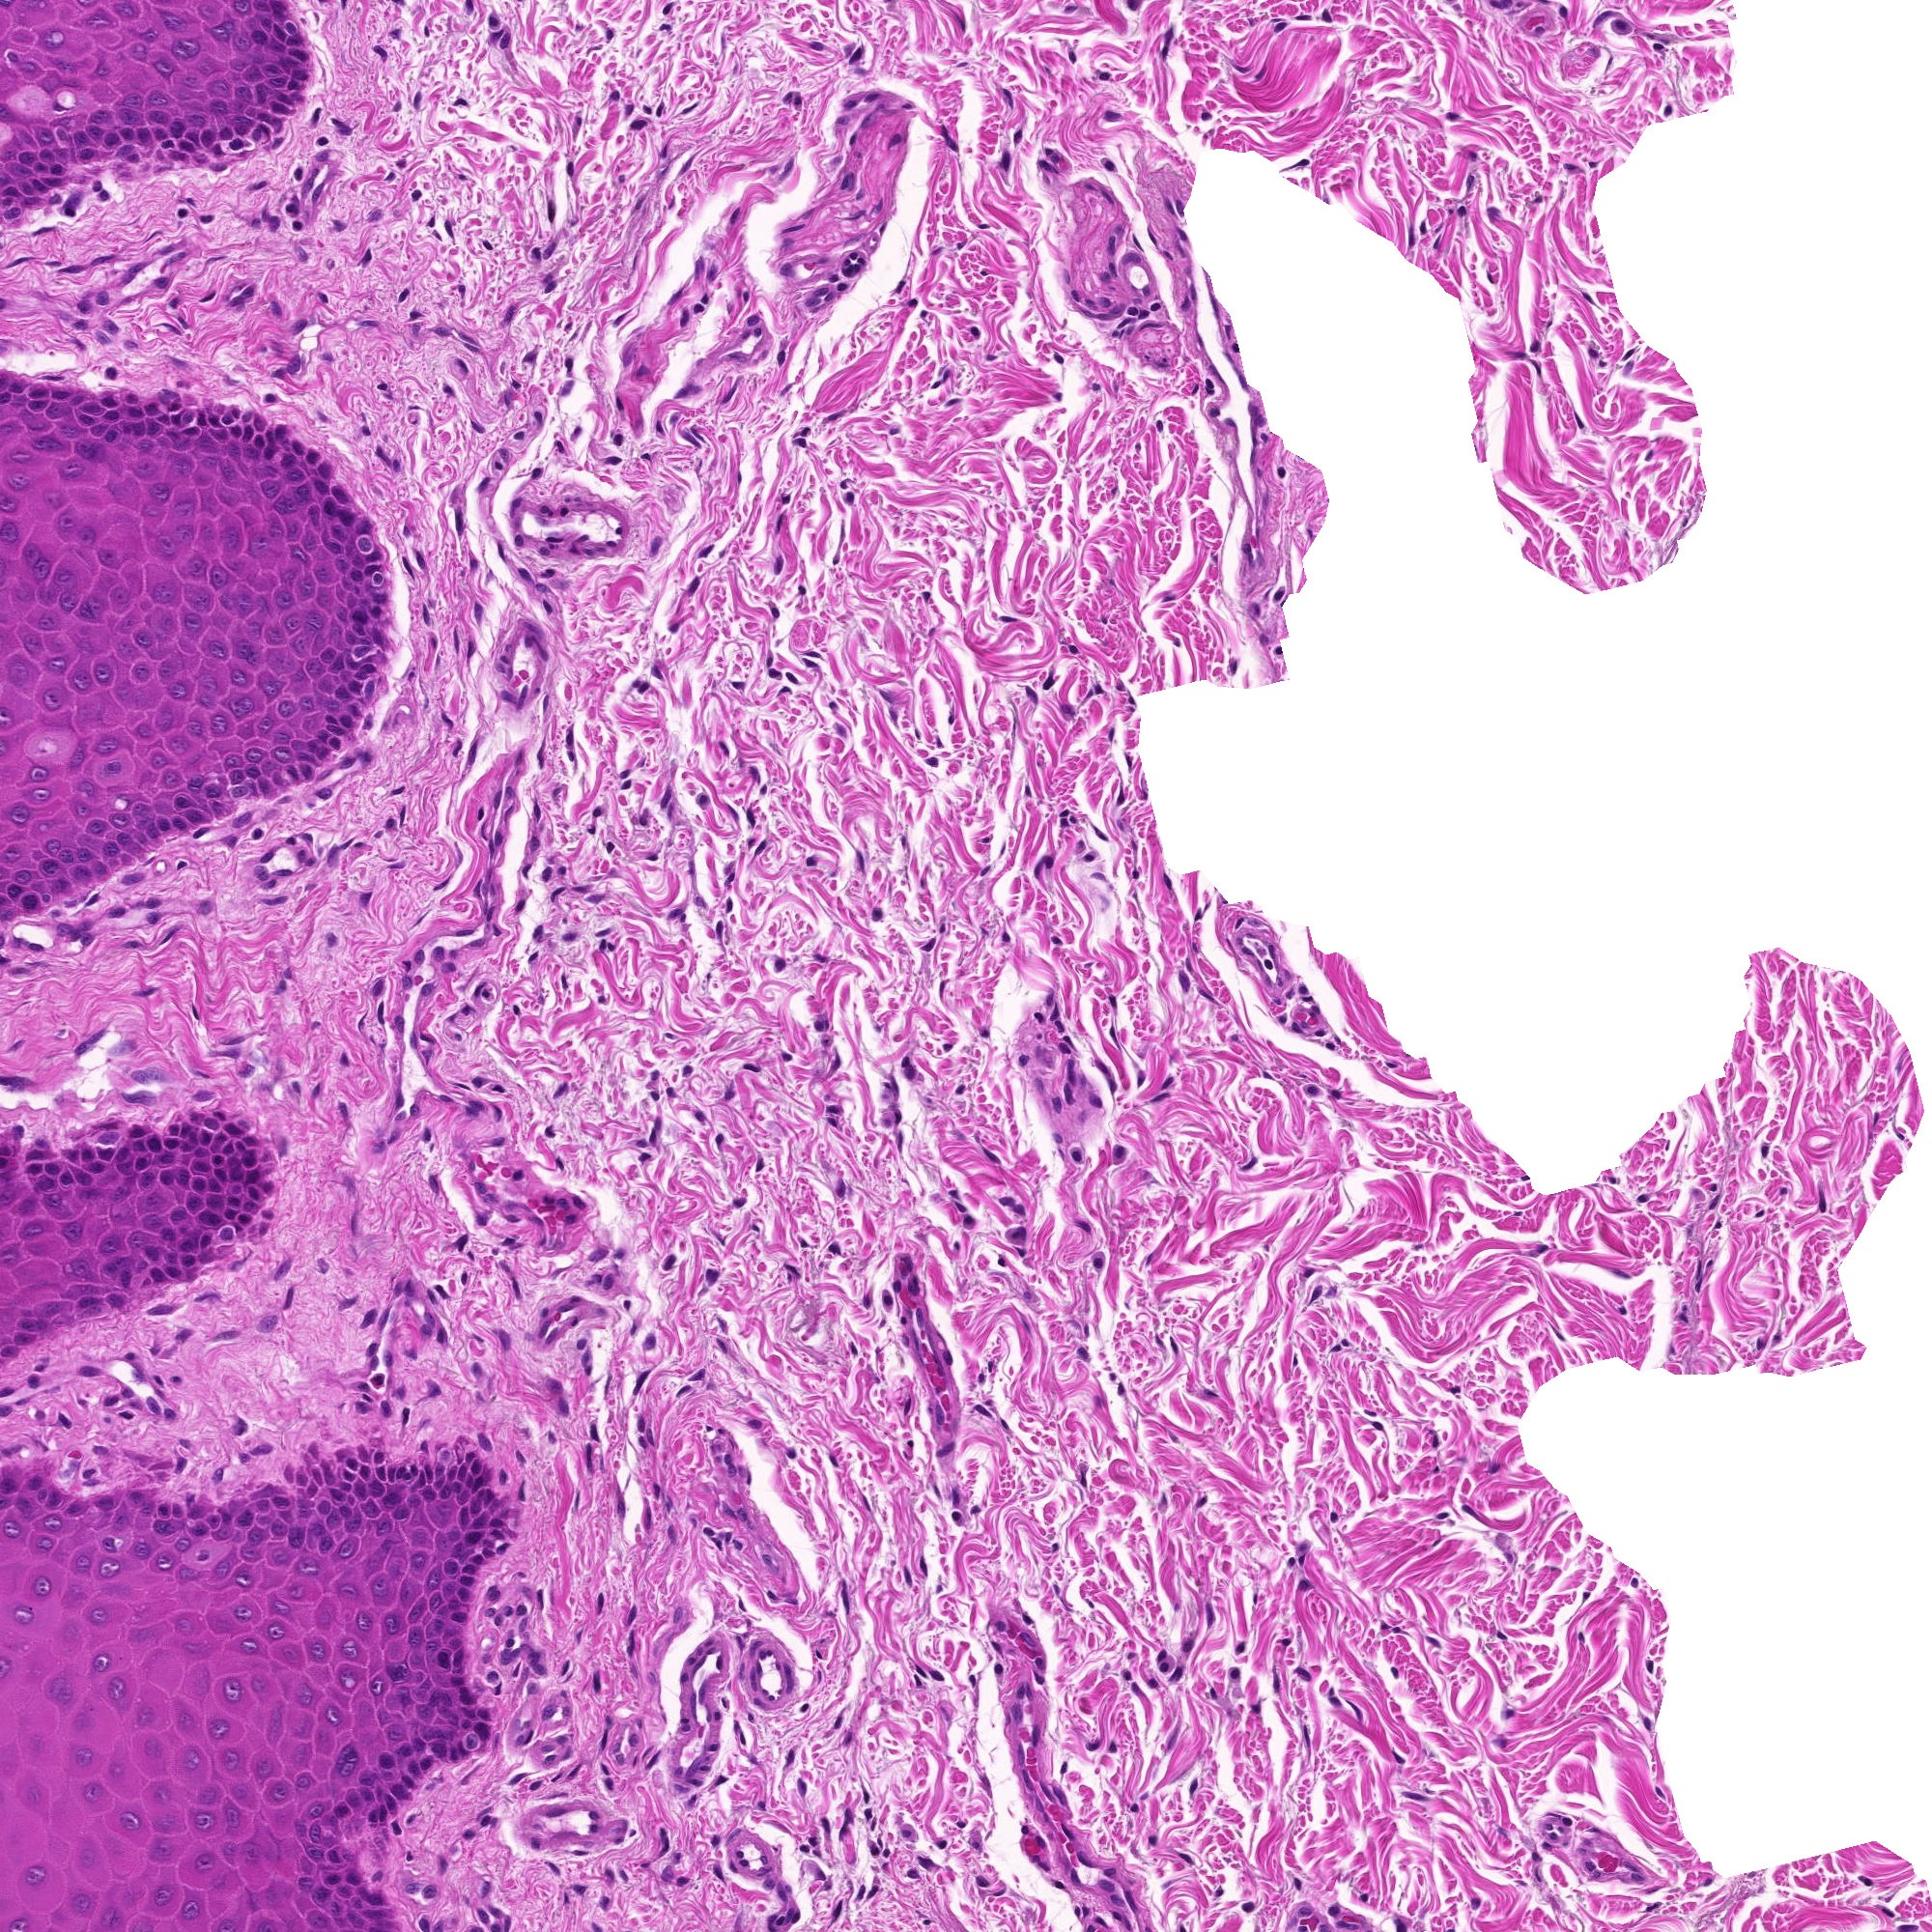epithelial: (274, 442, 306, 476), (150, 124, 182, 157), (101, 387, 133, 421), (350, 653, 384, 685), (120, 1118, 152, 1152), (228, 1178, 260, 1212), (159, 403, 191, 435), (251, 430, 283, 462), (34, 166, 65, 198), (11, 142, 42, 173), (278, 460, 310, 492), (119, 396, 150, 428), (25, 152, 57, 184), (44, 379, 76, 410), (96, 124, 127, 156), (65, 122, 97, 154), (285, 39, 317, 71), (175, 416, 207, 448), (142, 101, 173, 133), (12, 172, 44, 203), (203, 414, 235, 446), (196, 129, 228, 161), (143, 119, 175, 150), (149, 403, 180, 435), (111, 136, 143, 168), (281, 50, 313, 81), (257, 51, 288, 83), (249, 5, 281, 37), (152, 382, 184, 414), (285, 310, 317, 341), (133, 19, 165, 51), (34, 27, 65, 58), (219, 432, 251, 464), (113, 101, 145, 133), (205, 16, 237, 48), (299, 444, 331, 476), (111, 111, 143, 143), (228, 435, 260, 467), (265, 5, 297, 37), (41, 172, 73, 203), (46, 48, 78, 80), (269, 449, 301, 481), (165, 395, 196, 426), (212, 456, 244, 488), (48, 389, 80, 421), (67, 389, 99, 421), (18, 145, 50, 177), (12, 396, 44, 428), (9, 122, 41, 154), (55, 414, 87, 446), (343, 602, 375, 633), (313, 492, 345, 524), (320, 497, 352, 529), (340, 559, 372, 591), (318, 531, 350, 563), (334, 699, 366, 731), (248, 771, 280, 803), (318, 706, 350, 738), (287, 479, 318, 511), (318, 727, 350, 759), (303, 731, 334, 763), (324, 479, 356, 511), (269, 490, 301, 522), (343, 656, 375, 688), (345, 633, 377, 665), (269, 692, 301, 724), (182, 550, 214, 582), (354, 534, 386, 566), (101, 828, 133, 860), (50, 508, 81, 540), (326, 600, 357, 632), (359, 563, 391, 594), (150, 655, 182, 686), (267, 720, 299, 752), (317, 646, 349, 678), (5, 883, 37, 915), (58, 747, 90, 778), (290, 573, 322, 605), (48, 559, 80, 591), (343, 538, 375, 570), (170, 515, 202, 547), (258, 511, 290, 543), (51, 915, 83, 947), (180, 757, 212, 789), (334, 534, 366, 566), (90, 1138, 122, 1169), (177, 1187, 209, 1219), (172, 1230, 203, 1261), (19, 1139, 51, 1171), (131, 1162, 163, 1194), (142, 1260, 173, 1292), (198, 1185, 230, 1217), (219, 1159, 251, 1191), (150, 1143, 182, 1175), (57, 1139, 88, 1171), (159, 1115, 191, 1146), (30, 1168, 62, 1200), (67, 1162, 99, 1194), (57, 1215, 88, 1247), (90, 1115, 122, 1146), (253, 1171, 285, 1203), (65, 1143, 97, 1175), (41, 1159, 73, 1191), (225, 1412, 257, 1444), (25, 1146, 57, 1178), (111, 1127, 143, 1159), (173, 1254, 205, 1286), (241, 1150, 272, 1182), (64, 1249, 96, 1281), (209, 1185, 241, 1217), (140, 1247, 172, 1279), (41, 1169, 73, 1201), (458, 1447, 490, 1479), (324, 1794, 356, 1826), (317, 1863, 349, 1895), (149, 1502, 180, 1534), (361, 1799, 393, 1831), (58, 1493, 90, 1525), (435, 1552, 467, 1583), (37, 1483, 69, 1514), (458, 1545, 490, 1576), (393, 1766, 425, 1798), (460, 1504, 492, 1536), (455, 1697, 487, 1729), (372, 1792, 403, 1824), (179, 1497, 211, 1529), (453, 1729, 485, 1760), (418, 1683, 449, 1714), (156, 1495, 188, 1527), (442, 1474, 474, 1506), (7, 1488, 39, 1520), (379, 1605, 410, 1637), (380, 1474, 412, 1506), (444, 1640, 476, 1672), (402, 1594, 433, 1626), (398, 1621, 430, 1652), (426, 1456, 458, 1488), (352, 1780, 384, 1812), (387, 1683, 419, 1714), (299, 1836, 331, 1868), (396, 1743, 428, 1775), (327, 1748, 359, 1780), (338, 1783, 370, 1815), (451, 1507, 483, 1539), (317, 1502, 349, 1534), (366, 1509, 398, 1541), (188, 1844, 219, 1875), (65, 1884, 97, 1916), (421, 1635, 453, 1667), (444, 1589, 476, 1621), (111, 1805, 143, 1836), (320, 1893, 352, 1925), (458, 1723, 490, 1755), (260, 1511, 292, 1543), (398, 1486, 430, 1518), (186, 1502, 218, 1534), (257, 1615, 288, 1647), (216, 1799, 248, 1831), (295, 1474, 327, 1506), (205, 1516, 237, 1548), (428, 1737, 460, 1769), (403, 1522, 435, 1553), (416, 1718, 448, 1750), (172, 1559, 203, 1591), (364, 1778, 396, 1810), (214, 1677, 246, 1709), (306, 1520, 338, 1552), (311, 1870, 343, 1902), (124, 1619, 156, 1651), (27, 1477, 58, 1509), (175, 1741, 207, 1773), (458, 1675, 490, 1707), (442, 1720, 474, 1752), (373, 1451, 405, 1483), (306, 1723, 338, 1755), (428, 1523, 460, 1555), (446, 1698, 478, 1730), (623, 188, 655, 219), (533, 1185, 564, 1217), (824, 1173, 856, 1205), (897, 1325, 929, 1357), (720, 1497, 752, 1529), (607, 1813, 639, 1845), (740, 1629, 771, 1661), (1116, 242, 1148, 274), (1092, 258, 1123, 290), (1231, 534, 1263, 566), (1010, 1762, 1042, 1794), (1454, 165, 1486, 196), (1621, 1859, 1652, 1891), (1493, 1539, 1525, 1571), (14, 51, 44, 85), (230, 106, 264, 136), (80, 391, 113, 421), (34, 127, 64, 161), (354, 672, 384, 706), (25, 545, 55, 579), (451, 1463, 481, 1497), (237, 1836, 267, 1870), (96, 402, 127, 432), (225, 416, 255, 448), (262, 418, 292, 449), (172, 129, 202, 161), (21, 382, 51, 414), (127, 120, 159, 150), (161, 113, 193, 143), (71, 140, 103, 170), (119, 412, 149, 444), (244, 19, 274, 51), (92, 386, 124, 416), (193, 120, 223, 152), (209, 119, 241, 149), (73, 398, 103, 430), (104, 120, 136, 150), (292, 437, 322, 469), (138, 412, 170, 442), (269, 81, 299, 113), (281, 433, 311, 465), (219, 129, 251, 159), (280, 349, 310, 380), (76, 435, 106, 467), (249, 101, 280, 133), (96, 421, 127, 451), (28, 428, 60, 458), (129, 414, 161, 444), (260, 32, 292, 62), (246, 78, 276, 110), (239, 435, 269, 467), (182, 120, 212, 152), (237, 58, 269, 88), (85, 55, 117, 85), (202, 405, 234, 435), (237, 405, 267, 437), (34, 382, 65, 412), (172, 402, 202, 433), (28, 120, 60, 150), (39, 395, 69, 426), (81, 2, 111, 34), (258, 106, 288, 138), (228, 76, 258, 108), (19, 391, 50, 423), (157, 134, 189, 165), (73, 129, 103, 161), (88, 120, 120, 150), (5, 154, 35, 186), (216, 398, 248, 428), (111, 126, 142, 157), (188, 426, 219, 456), (48, 113, 78, 145), (182, 400, 212, 432), (180, 134, 211, 166), (19, 159, 50, 191), (156, 5, 186, 37), (255, 455, 285, 487), (278, 34, 308, 65), (108, 414, 140, 444), (267, 425, 297, 456), (163, 426, 195, 456), (225, 122, 257, 152), (78, 407, 108, 439), (359, 200, 391, 230), (55, 67, 85, 99), (264, 437, 295, 467), (140, 83, 172, 113), (37, 430, 69, 460), (166, 120, 196, 152), (90, 405, 120, 437), (225, 88, 257, 119), (280, 80, 310, 111), (265, 41, 297, 71), (264, 76, 294, 108), (25, 180, 57, 211), (58, 142, 90, 172), (249, 87, 281, 117), (241, 46, 271, 78), (212, 11, 244, 41), (35, 69, 65, 101), (14, 886, 46, 916), (331, 501, 361, 533), (166, 786, 196, 817), (34, 849, 64, 881), (149, 810, 180, 840), (179, 801, 211, 832), (165, 809, 195, 840), (349, 511, 380, 541), (237, 757, 269, 787), (327, 678, 357, 709), (306, 497, 338, 527), (81, 812, 113, 842), (357, 545, 389, 575), (340, 671, 370, 702), (364, 584, 396, 614), (5, 796, 35, 828), (363, 623, 395, 653), (283, 755, 313, 787), (221, 761, 253, 791), (329, 492, 359, 524), (313, 717, 345, 747), (90, 541, 122, 571), (329, 648, 359, 679), (308, 720, 338, 752), (67, 856, 97, 888), (46, 869, 78, 899), (69, 840, 101, 870), (225, 775, 255, 807), (189, 890, 219, 922), (232, 639, 264, 669), (62, 916, 92, 948), (297, 499, 327, 531), (25, 759, 57, 789), (202, 633, 234, 663), (311, 639, 343, 669), (18, 538, 48, 570), (108, 823, 138, 855), (462, 593, 492, 625), (288, 740, 320, 770), (65, 738, 96, 770), (341, 548, 373, 579), (127, 623, 157, 655), (117, 863, 149, 893), (349, 529, 380, 559), (257, 766, 288, 796), (343, 614, 373, 646), (173, 605, 205, 635), (37, 681, 67, 713), (156, 763, 186, 794), (223, 692, 255, 722), (23, 885, 55, 915), (308, 559, 338, 591), (315, 688, 345, 720), (209, 777, 241, 807), (87, 658, 119, 688), (218, 524, 248, 556), (336, 681, 366, 713), (67, 665, 97, 697), (315, 524, 347, 554), (202, 564, 234, 594), (30, 607, 62, 637), (90, 731, 122, 761), (223, 660, 255, 690), (338, 653, 370, 683), (11, 867, 41, 899), (299, 653, 331, 683), (235, 775, 267, 805), (205, 709, 237, 740), (150, 708, 182, 738), (352, 593, 382, 625), (251, 708, 283, 738), (301, 740, 331, 771), (189, 685, 219, 717), (51, 586, 81, 617), (150, 607, 180, 639), (172, 487, 202, 518), (336, 522, 366, 554), (39, 485, 69, 517), (191, 518, 223, 548), (244, 763, 274, 794), (18, 1154, 50, 1184), (237, 1161, 269, 1191), (138, 1129, 170, 1159), (35, 1154, 67, 1184), (191, 1122, 221, 1154), (126, 1148, 157, 1178), (173, 1116, 205, 1146), (156, 1129, 188, 1159), (196, 1203, 226, 1235), (234, 1145, 265, 1175), (202, 1145, 234, 1175), (71, 1139, 103, 1169), (50, 1164, 81, 1194), (186, 1150, 216, 1182), (150, 1162, 182, 1192), (214, 1200, 246, 1230), (205, 1159, 235, 1191), (163, 1200, 195, 1230), (168, 1161, 198, 1192), (232, 1127, 264, 1157), (152, 1219, 184, 1249), (7, 1322, 37, 1353), (157, 1256, 188, 1288), (138, 1237, 168, 1269), (195, 1108, 226, 1138), (237, 1178, 269, 1208), (25, 1132, 57, 1162), (218, 1150, 249, 1180), (198, 1171, 230, 1201), (234, 1189, 265, 1219), (203, 1123, 235, 1154), (110, 1150, 140, 1182), (242, 1171, 274, 1201), (149, 1132, 179, 1164), (76, 1146, 108, 1177), (460, 1090, 490, 1122), (253, 1307, 285, 1338), (182, 1242, 214, 1272), (223, 1122, 253, 1154), (212, 1210, 242, 1242), (133, 1141, 165, 1171), (37, 1185, 67, 1217), (393, 1272, 423, 1304), (106, 1246, 136, 1277), (104, 1256, 134, 1288), (333, 1168, 364, 1198), (90, 1125, 120, 1157), (2, 1067, 34, 1097), (219, 1169, 249, 1201), (18, 1214, 50, 1244), (198, 1129, 228, 1161), (165, 1125, 196, 1155), (338, 1207, 368, 1238), (113, 1159, 145, 1189), (134, 1120, 166, 1150), (182, 1196, 214, 1226), (30, 1139, 62, 1169), (239, 1131, 269, 1162), (230, 1054, 260, 1086), (267, 1253, 297, 1284), (97, 1240, 127, 1272), (51, 1146, 81, 1178), (152, 1120, 182, 1152), (223, 1212, 255, 1242), (119, 1152, 150, 1182), (25, 1161, 55, 1192), (196, 1154, 226, 1185), (163, 1251, 195, 1281), (195, 1217, 225, 1249), (226, 1194, 258, 1224), (117, 1256, 149, 1286), (27, 1311, 58, 1341), (460, 1467, 490, 1499), (370, 1746, 402, 1776), (384, 1458, 416, 1488), (451, 1681, 481, 1713), (444, 1736, 474, 1767), (410, 1748, 442, 1778), (306, 1879, 338, 1909), (361, 1884, 393, 1914), (380, 1656, 412, 1686), (184, 1514, 214, 1546), (375, 1484, 407, 1514), (19, 1467, 50, 1499), (414, 1477, 444, 1509), (349, 1456, 380, 1486), (366, 1456, 396, 1488), (412, 1458, 444, 1488), (359, 1898, 389, 1930), (448, 1500, 479, 1530), (147, 1511, 177, 1543), (207, 1504, 239, 1534), (403, 1730, 433, 1762), (281, 1522, 311, 1553), (451, 1566, 481, 1598), (433, 1474, 464, 1506), (400, 1752, 432, 1782), (334, 1454, 364, 1486), (92, 1529, 124, 1559), (430, 1683, 460, 1714), (120, 1481, 152, 1511), (329, 1495, 359, 1527), (375, 1782, 407, 1812), (356, 1493, 386, 1525), (311, 1456, 341, 1488), (405, 1465, 437, 1495), (444, 1536, 474, 1568), (444, 1672, 476, 1702), (327, 1865, 359, 1895), (228, 1559, 258, 1591), (310, 1529, 341, 1559), (449, 1709, 481, 1739), (426, 1720, 458, 1750), (308, 1493, 340, 1523), (364, 1447, 396, 1477), (241, 1520, 271, 1552), (338, 1507, 370, 1537), (129, 1534, 159, 1566), (203, 1709, 234, 1741), (299, 1635, 331, 1665), (455, 1440, 485, 1472), (333, 1445, 364, 1476), (403, 1545, 433, 1576), (460, 1479, 492, 1509), (366, 1477, 398, 1507), (331, 1463, 363, 1493), (143, 1835, 175, 1865), (19, 1861, 50, 1893), (196, 1506, 228, 1536), (460, 1704, 490, 1736), (301, 1458, 331, 1490), (303, 1513, 333, 1545), (350, 1881, 382, 1911), (421, 1583, 451, 1615), (288, 1867, 318, 1898), (343, 1890, 373, 1921), (356, 1440, 386, 1472), (246, 1488, 278, 1518), (248, 1752, 278, 1783), (177, 1488, 209, 1518), (375, 1461, 405, 1493), (67, 1741, 97, 1773), (437, 1702, 467, 1734), (9, 1596, 41, 1626), (170, 1704, 200, 1736), (218, 1668, 248, 1700), (333, 1658, 363, 1690), (235, 1633, 267, 1663), (380, 1718, 410, 1750), (129, 1700, 161, 1730), (193, 1780, 225, 1810), (441, 1629, 472, 1660), (145, 1493, 177, 1523), (186, 1805, 218, 1835), (218, 1497, 249, 1527), (318, 1463, 349, 1495), (292, 1681, 322, 1713), (310, 1601, 340, 1633), (27, 1530, 58, 1560), (437, 1727, 469, 1757), (334, 1479, 366, 1509), (299, 1817, 331, 1847), (244, 1668, 274, 1700), (73, 1460, 104, 1490), (382, 1490, 414, 1520), (67, 1548, 99, 1578), (341, 1898, 372, 1930), (149, 1545, 180, 1575), (18, 1780, 50, 1810), (426, 1499, 456, 1530), (225, 1778, 257, 1808), (366, 1578, 396, 1610), (237, 1886, 267, 1918), (58, 1580, 90, 1610), (195, 1518, 226, 1548), (73, 1842, 103, 1874), (271, 1499, 301, 1530), (333, 1575, 364, 1605), (448, 1453, 479, 1483), (345, 1495, 377, 1525), (407, 1674, 439, 1704), (205, 1610, 237, 1640), (285, 1812, 315, 1844), (320, 1702, 350, 1734), (257, 1879, 288, 1909), (331, 1842, 361, 1874), (333, 1637, 364, 1667), (356, 1463, 387, 1493), (405, 1721, 437, 1752), (214, 1836, 246, 1867), (398, 1470, 428, 1502), (437, 1713, 469, 1743), (359, 1789, 389, 1821), (165, 1502, 196, 1532), (168, 1529, 198, 1560), (334, 1852, 366, 1882), (276, 1458, 306, 1490), (626, 356, 656, 387), (534, 267, 564, 299), (612, 340, 642, 372), (798, 285, 828, 317), (943, 5, 973, 37), (488, 646, 520, 676), (518, 826, 550, 856), (676, 853, 706, 885), (925, 1346, 955, 1378), (932, 1341, 962, 1373), (488, 1322, 518, 1353), (906, 1300, 936, 1332), (904, 1332, 934, 1364), (527, 1313, 559, 1343), (481, 1511, 511, 1543), (669, 1707, 701, 1737), (494, 1638, 524, 1670), (510, 1723, 541, 1753), (759, 1900, 791, 1930), (651, 1859, 681, 1891), (533, 1697, 563, 1729), (676, 1757, 708, 1787), (1092, 288, 1122, 320), (1246, 58, 1276, 90), (1092, 272, 1122, 304), (1047, 801, 1079, 832), (1012, 1279, 1044, 1309), (1021, 1720, 1053, 1750), (1001, 1697, 1031, 1729), (1023, 1826, 1054, 1856), (984, 1610, 1016, 1640), (1053, 1817, 1085, 1847), (1288, 1897, 1320, 1927), (1477, 196, 1507, 228), (1522, 12, 1553, 42), (1578, 35, 1608, 67), (1670, 506, 1700, 538), (1667, 1300, 1698, 1330), (262, 92, 292, 122), (189, 405, 219, 435), (21, 172, 51, 202), (244, 426, 274, 456), (136, 393, 166, 423), (41, 154, 71, 184), (246, 115, 276, 145), (234, 419, 264, 449), (264, 18, 294, 48), (226, 111, 257, 142), (278, 69, 308, 99), (280, 21, 310, 51), (219, 407, 249, 437), (85, 101, 115, 131), (2, 372, 32, 402), (264, 67, 294, 97), (32, 140, 62, 170), (310, 458, 340, 488), (80, 117, 110, 147), (271, 48, 301, 78), (285, 60, 315, 90), (165, 140, 195, 170), (244, 412, 274, 442), (168, 34, 198, 64), (12, 184, 42, 214), (166, 414, 196, 444), (216, 418, 246, 448), (115, 386, 145, 416), (11, 375, 41, 405), (41, 142, 71, 172), (149, 50, 179, 80), (253, 441, 283, 471), (276, 14, 306, 44), (62, 384, 92, 414), (253, 28, 283, 58), (203, 92, 234, 122), (198, 423, 228, 453), (182, 104, 212, 134), (131, 432, 161, 462), (255, 414, 285, 444), (4, 382, 34, 412), (55, 458, 85, 488), (57, 122, 87, 152), (85, 414, 115, 444), (251, 73, 281, 103), (103, 407, 133, 437), (0, 44, 30, 74), (131, 456, 161, 487), (97, 752, 127, 782), (198, 777, 228, 807), (0, 876, 30, 906), (179, 770, 209, 800), (356, 554, 386, 584), (361, 596, 391, 626), (322, 517, 352, 547), (331, 706, 361, 736), (126, 656, 156, 686), (96, 835, 126, 865), (73, 596, 103, 626), (202, 793, 232, 823), (138, 816, 168, 846), (73, 518, 103, 548), (127, 717, 157, 747), (85, 855, 115, 885), (340, 513, 370, 543), (336, 623, 366, 653), (327, 550, 357, 580), (106, 803, 136, 833), (7, 860, 37, 890), (143, 747, 173, 777), (67, 793, 97, 823), (182, 713, 212, 743), (73, 773, 103, 803), (172, 805, 202, 835), (269, 584, 299, 614), (299, 605, 329, 635), (51, 842, 81, 872), (163, 676, 193, 706), (186, 586, 216, 616), (278, 515, 308, 545), (16, 628, 46, 658), (232, 717, 262, 747), (260, 619, 290, 649), (239, 741, 269, 771), (218, 748, 248, 778), (165, 727, 195, 757), (285, 660, 315, 690), (42, 649, 73, 679), (126, 796, 156, 826), (294, 527, 324, 557), (150, 534, 180, 564), (310, 671, 340, 701), (173, 794, 203, 824), (292, 688, 322, 718), (37, 832, 67, 862), (462, 874, 492, 904), (311, 736, 341, 766), (184, 1169, 214, 1200), (218, 1191, 248, 1221), (81, 1154, 111, 1184), (173, 1246, 203, 1276), (228, 1205, 258, 1235), (73, 1288, 103, 1318), (108, 1139, 138, 1169), (214, 1134, 244, 1164), (101, 1284, 131, 1315), (97, 1253, 127, 1283), (124, 1131, 154, 1161), (175, 1127, 205, 1157), (110, 1263, 140, 1293), (18, 1309, 48, 1339), (11, 1191, 41, 1221), (156, 1244, 186, 1274), (74, 1178, 104, 1208), (203, 1100, 234, 1131), (37, 1293, 67, 1323), (73, 1155, 103, 1185), (184, 1138, 214, 1168), (87, 1146, 117, 1177), (138, 1207, 168, 1237), (203, 1192, 234, 1223), (223, 1132, 253, 1162), (267, 1131, 297, 1161), (211, 1118, 241, 1148), (122, 1141, 152, 1171), (230, 1168, 260, 1198), (179, 1224, 209, 1254), (218, 1031, 248, 1062), (138, 1185, 168, 1215), (308, 1251, 338, 1281), (126, 1251, 156, 1281), (458, 1522, 488, 1552), (423, 1734, 453, 1764), (428, 1644, 458, 1674), (230, 1504, 260, 1534), (384, 1775, 414, 1805), (389, 1736, 419, 1766), (90, 1488, 120, 1518), (361, 1474, 391, 1504), (444, 1661, 474, 1691), (334, 1739, 364, 1769), (322, 1479, 352, 1509), (345, 1476, 375, 1506), (444, 1601, 474, 1631), (444, 1458, 474, 1488), (396, 1456, 426, 1486), (338, 1863, 368, 1893), (386, 1499, 416, 1529), (318, 1842, 349, 1872), (352, 1764, 382, 1794), (265, 1486, 295, 1516), (462, 1714, 492, 1744), (449, 1578, 479, 1608), (451, 1541, 481, 1571), (456, 1555, 487, 1585), (345, 1465, 375, 1495), (423, 1463, 453, 1493), (83, 1649, 113, 1679), (423, 1610, 453, 1640), (264, 1775, 294, 1805), (329, 1875, 359, 1905), (412, 1729, 442, 1759), (446, 1527, 476, 1557), (251, 1477, 281, 1507), (106, 1504, 136, 1534), (288, 1493, 318, 1523), (343, 1451, 373, 1481), (226, 1598, 257, 1628), (419, 1741, 449, 1771), (430, 1695, 460, 1725), (285, 1463, 315, 1493), (449, 1479, 479, 1509), (147, 1881, 177, 1911), (25, 1573, 55, 1603), (145, 1778, 175, 1808), (350, 1606, 380, 1637), (81, 1601, 111, 1631), (288, 1767, 318, 1798), (437, 1520, 467, 1550), (318, 1803, 349, 1833), (138, 1734, 168, 1764), (46, 1679, 76, 1709), (361, 1672, 391, 1702), (101, 1672, 131, 1702), (437, 1465, 467, 1495), (433, 1573, 464, 1603), (391, 1580, 421, 1610), (329, 1474, 359, 1504), (260, 1709, 290, 1739), (345, 1874, 375, 1904), (207, 1553, 237, 1583), (265, 1543, 295, 1573), (67, 1706, 97, 1736), (131, 1491, 161, 1522), (166, 1608, 196, 1638), (280, 1576, 310, 1606), (175, 1895, 205, 1925), (260, 1591, 290, 1621), (287, 1739, 317, 1769), (329, 1536, 359, 1566), (331, 1789, 361, 1819), (372, 1530, 402, 1560), (428, 1580, 458, 1610), (41, 1511, 71, 1541), (326, 1440, 356, 1470), (426, 1601, 456, 1631), (331, 1900, 361, 1930), (678, 423, 708, 453), (832, 166, 862, 196), (881, 124, 911, 154), (851, 106, 881, 136), (720, 341, 750, 372), (587, 1265, 617, 1295), (924, 1401, 954, 1431), (777, 1256, 807, 1286), (540, 1371, 570, 1401), (479, 1578, 510, 1608), (487, 1502, 517, 1532), (681, 1647, 711, 1677), (688, 1675, 718, 1706), (479, 1488, 510, 1518), (679, 1704, 709, 1734), (1122, 297, 1152, 327), (1109, 297, 1139, 327), (1099, 294, 1129, 324), (1109, 308, 1139, 338), (1154, 191, 1184, 221), (1053, 695, 1083, 725), (1231, 936, 1261, 966), (1005, 1739, 1035, 1769), (1010, 1622, 1040, 1652), (1575, 1852, 1605, 1882), (159, 391, 188, 423), (290, 453, 322, 481), (257, 674, 288, 702), (276, 485, 308, 513), (285, 540, 313, 571), (226, 632, 258, 660), (218, 1115, 249, 1143), (191, 1224, 219, 1256), (9, 1315, 41, 1343), (458, 1493, 490, 1522), (423, 1474, 451, 1506), (301, 1798, 333, 1826), (439, 1649, 471, 1677), (274, 1640, 306, 1668), (1157, 1725, 1185, 1757), (159, 419, 188, 449), (0, 177, 28, 207), (326, 713, 356, 741), (180, 1106, 209, 1136), (191, 1235, 219, 1265), (96, 1230, 124, 1260), (182, 1178, 212, 1207), (170, 1215, 198, 1246), (23, 1233, 51, 1263), (78, 1776, 108, 1805), (410, 1697, 439, 1727), (421, 1562, 449, 1592), (218, 1744, 248, 1773), (464, 1456, 492, 1486), (327, 1488, 356, 1518), (101, 1755, 131, 1783), (517, 623, 545, 653), (485, 1522, 513, 1552), (663, 1601, 692, 1631), (1251, 485, 1279, 515), (1085, 1387, 1115, 1415), (106, 1178, 134, 1207)
fibroblast and endothelial: (432, 702, 464, 736), (405, 1028, 437, 1062), (713, 377, 745, 410), (692, 536, 725, 568), (692, 1647, 725, 1679), (1316, 1895, 1350, 1927), (299, 99, 331, 131), (364, 35, 396, 67), (96, 356, 127, 387), (265, 356, 297, 387), (37, 361, 69, 393), (221, 287, 253, 318), (260, 292, 292, 324), (322, 209, 354, 241), (172, 188, 203, 219), (306, 134, 338, 166), (303, 166, 334, 198), (311, 341, 343, 373), (209, 133, 241, 165), (456, 736, 488, 768), (258, 885, 290, 916), (241, 817, 272, 849), (414, 938, 446, 970), (278, 823, 310, 855), (402, 939, 433, 971), (426, 936, 458, 968), (165, 849, 196, 881), (352, 706, 384, 738), (442, 626, 474, 658), (460, 927, 492, 959), (69, 922, 101, 954), (435, 938, 467, 970), (389, 1398, 421, 1430), (372, 1392, 403, 1424), (425, 1276, 456, 1307), (48, 1405, 80, 1437), (301, 1074, 333, 1106), (154, 1398, 186, 1430), (349, 1389, 380, 1421), (448, 1261, 479, 1293), (166, 1320, 198, 1352), (382, 1005, 414, 1037), (370, 1345, 402, 1376), (142, 1364, 173, 1396), (361, 971, 393, 1003), (412, 1302, 444, 1334), (384, 1376, 416, 1408), (366, 1304, 398, 1336), (460, 1353, 492, 1385), (464, 1203, 495, 1235), (444, 998, 476, 1030), (435, 1001, 467, 1033), (34, 1401, 65, 1433), (421, 1311, 453, 1343), (140, 1334, 172, 1366), (380, 1812, 412, 1844), (414, 1875, 446, 1907), (165, 1447, 196, 1479), (393, 1840, 425, 1872), (426, 1849, 458, 1881), (387, 1808, 419, 1840), (230, 1440, 262, 1472), (534, 195, 566, 226), (623, 108, 655, 140), (839, 242, 870, 274), (639, 92, 671, 124), (596, 444, 628, 476), (554, 152, 586, 184), (927, 363, 959, 395), (764, 340, 796, 372), (543, 432, 575, 464), (603, 387, 635, 419), (520, 456, 552, 488), (695, 257, 727, 288), (771, 152, 803, 184), (683, 253, 715, 285), (729, 278, 761, 310), (826, 253, 858, 285), (653, 405, 685, 437), (626, 671, 658, 702), (589, 927, 621, 959), (775, 662, 807, 694), (722, 669, 754, 701), (833, 481, 865, 513), (916, 745, 948, 777), (702, 913, 734, 945), (678, 570, 709, 602), (485, 534, 517, 566), (686, 784, 718, 816), (520, 929, 552, 961), (559, 531, 591, 563), (545, 855, 577, 886), (913, 929, 945, 961), (510, 853, 541, 885), (568, 536, 600, 568), (626, 803, 658, 835), (794, 644, 826, 676), (713, 858, 745, 890), (529, 541, 561, 573), (708, 731, 740, 763), (639, 531, 671, 563), (517, 941, 548, 973), (580, 534, 612, 566), (876, 694, 908, 725), (531, 531, 563, 563), (564, 872, 596, 904), (748, 773, 780, 805), (529, 564, 561, 596), (870, 679, 902, 711), (936, 701, 968, 732), (824, 715, 856, 747), (524, 571, 556, 603), (706, 904, 738, 936), (563, 1185, 594, 1217), (736, 1051, 768, 1083), (628, 1141, 660, 1173), (872, 1284, 904, 1316), (817, 1099, 849, 1131), (552, 1187, 584, 1219), (646, 1077, 678, 1109), (481, 1086, 513, 1118), (495, 1226, 527, 1258), (559, 1293, 591, 1325), (554, 1201, 586, 1233), (548, 964, 580, 996), (837, 1332, 869, 1364), (635, 1325, 667, 1357), (617, 1313, 649, 1345), (614, 1300, 646, 1332), (918, 1658, 950, 1690), (580, 1667, 612, 1698), (810, 1808, 842, 1840), (821, 1895, 853, 1927), (908, 1849, 939, 1881), (669, 1661, 701, 1693), (849, 1780, 881, 1812), (501, 1762, 533, 1794), (524, 1580, 556, 1612), (817, 1444, 849, 1476), (890, 1560, 922, 1592), (925, 1828, 957, 1859), (697, 1730, 729, 1762), (759, 1580, 791, 1612), (518, 1769, 550, 1801), (660, 1840, 692, 1872), (594, 1859, 626, 1891), (715, 1523, 747, 1555), (632, 1502, 663, 1534), (692, 1631, 724, 1663), (846, 1877, 878, 1909), (573, 1440, 605, 1472), (722, 1527, 754, 1559), (607, 1859, 639, 1891), (540, 1651, 571, 1683), (890, 1815, 922, 1847), (550, 1882, 582, 1914), (729, 1458, 761, 1490), (812, 1868, 844, 1900), (706, 1518, 738, 1550), (653, 1502, 685, 1534), (1189, 372, 1221, 403), (1286, 2, 1318, 34), (989, 145, 1021, 177), (1093, 149, 1125, 180), (1263, 9, 1295, 41), (1001, 119, 1033, 150), (1095, 99, 1127, 131), (1306, 2, 1338, 34), (1399, 218, 1431, 249), (1240, 410, 1272, 442), (1189, 99, 1221, 131), (1162, 191, 1194, 223), (1214, 407, 1246, 439), (1120, 226, 1152, 258), (1242, 423, 1274, 455), (1215, 322, 1247, 354), (1095, 228, 1127, 260), (1042, 380, 1074, 412), (1162, 202, 1194, 234), (1072, 295, 1104, 327), (1108, 226, 1139, 258), (1079, 372, 1111, 403), (1154, 237, 1185, 269), (1189, 288, 1221, 320), (1031, 846, 1063, 878), (1023, 853, 1054, 885), (1182, 899, 1214, 931), (1254, 936, 1286, 968), (1247, 623, 1279, 655), (1288, 975, 1320, 1007), (1104, 1136, 1136, 1168), (1097, 984, 1129, 1016), (1083, 1246, 1115, 1277), (1299, 996, 1330, 1028), (1295, 1074, 1327, 1106), (1300, 1007, 1332, 1039), (1191, 978, 1223, 1010), (1067, 1338, 1099, 1369), (1293, 982, 1325, 1014), (1007, 1044, 1039, 1076), (1069, 1327, 1100, 1359), (1417, 1421, 1449, 1453), (1042, 1122, 1074, 1154), (1146, 1645, 1178, 1677), (982, 1652, 1014, 1684), (1097, 1730, 1129, 1762), (1288, 1658, 1320, 1690), (1026, 1849, 1058, 1881), (961, 1828, 993, 1859), (1284, 1539, 1316, 1571), (1198, 1677, 1230, 1709), (1090, 1870, 1122, 1902), (1046, 1762, 1077, 1794), (1019, 1842, 1051, 1874), (1633, 439, 1665, 471), (1525, 1233, 1557, 1265), (1626, 1182, 1658, 1214), (1702, 1210, 1734, 1242), (1683, 1263, 1714, 1295), (1744, 1198, 1776, 1230), (1631, 1707, 1663, 1739), (1541, 1812, 1573, 1844), (1619, 1566, 1651, 1598), (1644, 1776, 1675, 1808), (1530, 1829, 1562, 1861), (387, 88, 421, 119), (350, 881, 380, 915), (336, 830, 370, 860), (73, 1357, 106, 1387), (18, 1364, 48, 1398), (352, 1311, 382, 1345), (379, 1341, 412, 1371), (357, 1318, 387, 1352), (860, 1286, 893, 1316), (702, 1123, 736, 1154), (702, 1766, 736, 1796), (637, 1744, 667, 1778), (692, 1516, 725, 1546), (540, 1743, 573, 1773), (504, 1635, 538, 1665), (732, 1844, 766, 1874), (1573, 150, 1606, 180), (1698, 1185, 1729, 1219), (57, 253, 87, 285), (387, 280, 419, 310), (53, 195, 85, 225), (87, 179, 119, 209), (327, 111, 357, 143), (28, 214, 58, 246), (446, 85, 476, 117), (398, 299, 430, 329), (276, 193, 306, 225), (145, 267, 177, 297), (433, 373, 464, 405), (352, 241, 382, 272), (67, 292, 99, 322), (446, 350, 478, 380), (366, 439, 396, 471), (163, 310, 195, 340), (87, 281, 119, 311), (255, 382, 287, 412), (159, 287, 189, 318), (416, 205, 446, 237), (290, 165, 320, 196), (58, 186, 90, 216), (244, 170, 274, 202), (65, 308, 96, 340), (379, 448, 409, 479), (366, 372, 398, 402), (96, 311, 127, 341), (460, 412, 492, 442), (260, 126, 292, 156), (83, 172, 113, 203), (384, 149, 416, 179), (203, 140, 234, 172), (308, 281, 338, 313), (350, 414, 380, 446), (410, 16, 442, 46), (402, 85, 433, 115), (297, 157, 329, 188), (456, 327, 487, 359), (226, 400, 257, 432), (446, 274, 478, 304), (260, 209, 290, 241), (88, 320, 119, 352), (44, 251, 76, 281), (393, 550, 423, 582), (19, 931, 50, 962), (308, 778, 338, 810), (258, 863, 290, 893), (103, 897, 133, 929), (288, 823, 320, 853), (267, 858, 299, 888), (455, 633, 487, 663), (458, 548, 490, 579), (331, 747, 363, 777), (138, 902, 170, 932), (320, 835, 350, 867), (382, 775, 414, 805), (249, 860, 280, 892), (216, 824, 246, 856), (156, 918, 186, 950), (418, 626, 449, 656), (228, 803, 258, 835), (384, 801, 416, 832), (391, 515, 423, 545), (295, 846, 326, 878), (464, 798, 495, 828), (281, 833, 313, 863), (366, 708, 398, 738), (225, 823, 257, 853), (364, 994, 395, 1026), (363, 1364, 395, 1394), (356, 1332, 387, 1362), (110, 1399, 142, 1430), (111, 1389, 142, 1421), (354, 1300, 384, 1332), (333, 1286, 363, 1318), (131, 977, 163, 1007), (412, 973, 442, 1005), (119, 1345, 149, 1376), (460, 1077, 490, 1109), (382, 1085, 414, 1115), (327, 1095, 359, 1125), (398, 1095, 430, 1125), (111, 1376, 142, 1408), (120, 1083, 150, 1115), (329, 1044, 359, 1076), (180, 996, 211, 1028), (414, 1318, 446, 1348), (451, 1069, 483, 1099), (359, 1348, 389, 1380), (265, 971, 297, 1001), (138, 1391, 170, 1421), (80, 1023, 111, 1053), (4, 1115, 34, 1146), (285, 1072, 317, 1102), (430, 1083, 460, 1115), (246, 1214, 278, 1244), (398, 1024, 428, 1056), (122, 1359, 154, 1389), (396, 1338, 426, 1369), (393, 964, 423, 996), (191, 1281, 223, 1311), (212, 1318, 242, 1350), (25, 1399, 55, 1431), (377, 1122, 409, 1152), (186, 1079, 218, 1109), (464, 1171, 495, 1201), (5, 1385, 35, 1417), (271, 961, 301, 993), (345, 1007, 375, 1039), (364, 1131, 395, 1162), (395, 1803, 426, 1833), (361, 1861, 393, 1891), (203, 1460, 235, 1490), (938, 127, 968, 159), (840, 39, 870, 71), (897, 287, 927, 318), (686, 288, 718, 318), (931, 119, 961, 150), (602, 425, 633, 455), (479, 7, 510, 39), (669, 303, 701, 333), (594, 18, 625, 50), (817, 402, 849, 432), (814, 278, 846, 308), (614, 92, 644, 124), (778, 83, 810, 113), (885, 269, 915, 301), (660, 280, 690, 311), (676, 297, 708, 327), (502, 419, 534, 449), (856, 81, 888, 111), (671, 375, 701, 407), (515, 341, 545, 373), (522, 402, 554, 432), (837, 124, 869, 154), (718, 200, 750, 230), (494, 297, 524, 329), (920, 368, 952, 398), (771, 253, 801, 285), (805, 281, 837, 311), (481, 449, 513, 479), (904, 292, 936, 322), (938, 386, 968, 418), (603, 303, 633, 334), (648, 136, 679, 166), (487, 439, 517, 471), (550, 373, 582, 403), (731, 318, 761, 350), (563, 106, 593, 138), (690, 280, 720, 311), (616, 103, 648, 133), (878, 414, 908, 446), (678, 283, 709, 313), (757, 658, 789, 688), (554, 722, 584, 754), (770, 481, 800, 513), (862, 899, 893, 929), (541, 876, 571, 908), (508, 559, 540, 589), (531, 858, 563, 888), (520, 559, 552, 589), (794, 846, 826, 876), (534, 557, 564, 589), (522, 918, 552, 950), (554, 920, 584, 952), (594, 830, 625, 862), (582, 796, 614, 826), (658, 610, 688, 642), (713, 890, 745, 920), (538, 524, 568, 556), (524, 741, 556, 771), (763, 550, 794, 580), (662, 897, 692, 929), (911, 580, 941, 612), (605, 513, 635, 545), (786, 575, 816, 607), (642, 655, 672, 686), (649, 784, 681, 814), (580, 881, 610, 913), (764, 506, 794, 538), (738, 826, 768, 858), (501, 488, 533, 518), (481, 915, 511, 947), (817, 688, 847, 720), (763, 943, 794, 973), (485, 780, 515, 812), (805, 941, 837, 971), (768, 497, 798, 529), (540, 777, 571, 807), (927, 911, 957, 943), (888, 824, 918, 856), (625, 1364, 656, 1394), (579, 1415, 609, 1447), (639, 1118, 669, 1150), (817, 1233, 849, 1263), (533, 1116, 564, 1146), (743, 1150, 775, 1180), (483, 1072, 513, 1104), (805, 1008, 837, 1039), (706, 1318, 738, 1348), (628, 1131, 658, 1162), (671, 1054, 702, 1085), (568, 1330, 598, 1362), (685, 1100, 717, 1131), (683, 1359, 713, 1391), (722, 1187, 754, 1217), (543, 1148, 575, 1178), (545, 1074, 575, 1106), (603, 1238, 635, 1269), (938, 1180, 970, 1210), (740, 1405, 770, 1437), (669, 1373, 699, 1405), (771, 1040, 801, 1072), (881, 1269, 913, 1299), (851, 1284, 881, 1316), (892, 1247, 922, 1279), (876, 1070, 908, 1100), (571, 1350, 603, 1380), (639, 1069, 669, 1100), (502, 1159, 533, 1191), (810, 1026, 842, 1056), (559, 1304, 589, 1336), (534, 1318, 564, 1350), (706, 1330, 738, 1361), (483, 1125, 513, 1157), (547, 1293, 579, 1323), (885, 1122, 915, 1154), (823, 1046, 853, 1077), (612, 1288, 642, 1320), (892, 1389, 922, 1421), (711, 1077, 743, 1108), (628, 1419, 660, 1449), (548, 1391, 579, 1422), (586, 984, 617, 1014), (481, 1102, 513, 1132), (529, 1302, 559, 1334), (888, 1304, 920, 1334), (642, 1109, 672, 1141), (656, 1076, 686, 1108), (488, 1251, 520, 1281), (893, 1261, 925, 1292), (878, 1083, 908, 1115), (939, 1484, 970, 1516), (702, 1856, 732, 1888), (855, 1875, 886, 1905), (649, 1826, 681, 1856), (584, 1585, 616, 1615), (867, 1835, 897, 1867), (479, 1897, 511, 1927), (724, 1847, 754, 1879), (589, 1723, 619, 1755), (701, 1824, 731, 1856), (908, 1550, 938, 1582), (897, 1856, 927, 1888), (686, 1752, 718, 1782), (821, 1707, 853, 1737), (665, 1865, 695, 1897), (789, 1691, 819, 1723), (793, 1829, 824, 1859), (701, 1525, 731, 1557), (786, 1771, 817, 1801), (676, 1785, 708, 1815), (589, 1886, 621, 1916), (832, 1801, 863, 1831), (481, 1601, 511, 1633), (550, 1652, 580, 1684), (593, 1767, 625, 1798), (494, 1626, 524, 1658), (833, 1723, 863, 1755), (775, 1438, 807, 1468), (541, 1794, 571, 1826), (520, 1828, 552, 1858), (847, 1803, 879, 1833), (747, 1789, 777, 1821), (741, 1654, 771, 1686), (538, 1852, 570, 1882), (768, 1877, 798, 1909), (747, 1637, 778, 1667), (750, 1684, 780, 1716), (490, 1596, 522, 1626), (713, 1447, 743, 1479), (524, 1652, 554, 1684), (616, 1727, 648, 1757), (899, 1557, 931, 1587), (545, 1725, 577, 1755), (591, 1713, 621, 1744), (656, 1518, 688, 1548), (515, 1578, 547, 1608), (699, 1704, 729, 1736), (564, 1836, 594, 1868), (508, 1583, 538, 1615), (655, 1835, 685, 1867), (686, 1637, 717, 1668), (545, 1759, 575, 1790), (717, 1852, 747, 1884), (531, 1736, 563, 1766), (771, 1582, 803, 1612), (1037, 138, 1067, 170), (1028, 150, 1060, 180), (1265, 456, 1297, 487), (1154, 18, 1184, 50), (1286, 147, 1318, 177), (1088, 60, 1120, 90), (1407, 212, 1438, 242), (1240, 400, 1270, 432), (1139, 290, 1171, 320), (959, 317, 991, 347), (1044, 341, 1074, 373), (1148, 347, 1178, 379), (1198, 366, 1228, 398), (993, 78, 1023, 110), (1056, 41, 1086, 73), (1138, 221, 1168, 253), (1171, 287, 1201, 318), (1132, 278, 1162, 310), (968, 209, 998, 241), (1212, 313, 1242, 345), (1095, 242, 1125, 274), (975, 340, 1005, 372), (1238, 437, 1269, 469), (1207, 400, 1237, 432), (1076, 173, 1108, 203), (1042, 147, 1074, 177), (1033, 667, 1063, 699), (1016, 678, 1046, 709), (1263, 635, 1295, 665), (1152, 865, 1182, 897), (991, 603, 1023, 633), (1083, 674, 1113, 706), (989, 922, 1021, 952), (1219, 649, 1249, 681), (1115, 745, 1145, 777), (1116, 685, 1146, 717), (1256, 630, 1288, 660), (1095, 717, 1125, 748), (1108, 674, 1138, 706), (1069, 832, 1099, 863), (1093, 671, 1125, 701), (1230, 906, 1260, 938), (1116, 778, 1148, 809), (970, 855, 1001, 885), (970, 824, 1001, 855), (1300, 1277, 1330, 1309), (1079, 1086, 1111, 1116), (1125, 1063, 1155, 1095), (998, 1189, 1028, 1221), (1283, 1012, 1313, 1044), (1295, 1016, 1327, 1046), (1235, 1148, 1265, 1180), (1316, 1028, 1346, 1060), (1053, 1079, 1085, 1109), (1304, 1017, 1336, 1047), (1292, 1256, 1322, 1288), (1269, 1005, 1299, 1037), (1051, 1030, 1081, 1062), (966, 1394, 998, 1424), (1159, 1330, 1191, 1361), (1106, 1373, 1136, 1405), (1097, 1017, 1129, 1047), (1054, 1054, 1086, 1085), (970, 1357, 1000, 1389), (1005, 1237, 1037, 1267), (989, 1410, 1021, 1440), (1274, 978, 1306, 1008), (1060, 1063, 1090, 1095), (1005, 1194, 1037, 1224), (1001, 1228, 1033, 1258), (1139, 1065, 1171, 1095), (1309, 1276, 1341, 1306), (1145, 1325, 1175, 1357), (1270, 970, 1300, 1001), (1159, 1656, 1189, 1688), (1012, 1603, 1044, 1633), (1233, 1891, 1263, 1923), (1058, 1861, 1090, 1891), (1077, 1730, 1109, 1760), (1240, 1693, 1272, 1723), (1171, 1631, 1203, 1661), (1024, 1663, 1054, 1695), (1288, 1569, 1320, 1599), (1044, 1868, 1074, 1900), (1318, 1684, 1350, 1714), (1115, 1663, 1145, 1695), (1047, 1752, 1079, 1782), (1120, 1672, 1150, 1704), (1224, 1633, 1256, 1663), (1171, 1842, 1201, 1874), (1069, 1844, 1099, 1875), (1194, 1599, 1224, 1631), (1010, 1813, 1040, 1845), (1369, 1612, 1401, 1642), (1399, 1780, 1430, 1812), (1138, 1824, 1168, 1856), (1341, 1695, 1373, 1725), (1067, 1463, 1099, 1493), (1067, 1895, 1097, 1927), (1115, 1882, 1145, 1914), (1039, 1778, 1070, 1808), (1290, 1718, 1322, 1748), (1283, 1867, 1313, 1898), (1203, 1875, 1233, 1907), (1269, 1626, 1300, 1656), (961, 1493, 991, 1525), (1100, 1898, 1131, 1930), (1378, 1614, 1410, 1644), (970, 1767, 1001, 1798), (1384, 1900, 1414, 1932), (1095, 1856, 1125, 1888), (1039, 1530, 1069, 1562), (1606, 9, 1637, 41), (1456, 147, 1486, 179), (1520, 331, 1550, 363), (1445, 195, 1476, 226), (1555, 152, 1587, 182), (1578, 340, 1610, 370), (1652, 94, 1684, 124), (1522, 354, 1553, 384), (1583, 4, 1615, 34), (1571, 281, 1603, 311), (1596, 4, 1626, 35), (1522, 184, 1553, 214), (1638, 19, 1668, 51), (1748, 1134, 1780, 1164), (1440, 1373, 1470, 1405), (1746, 1327, 1776, 1359), (1698, 1171, 1729, 1203), (1760, 1322, 1792, 1352), (1598, 1162, 1628, 1194), (1767, 1175, 1799, 1205), (1509, 1162, 1541, 1192), (1851, 1867, 1882, 1897), (1550, 1805, 1580, 1836), (1872, 1897, 1904, 1927), (1453, 1495, 1484, 1525), (1493, 1697, 1525, 1727), (1479, 1453, 1509, 1484), (1461, 1886, 1491, 1918), (1520, 1840, 1550, 1872), (1536, 1821, 1566, 1852), (1486, 1727, 1518, 1757), (1522, 1861, 1553, 1891), (1566, 1621, 1596, 1652), (1569, 1580, 1601, 1610), (1693, 1865, 1723, 1897), (285, 157, 315, 188), (433, 212, 464, 242), (255, 205, 285, 235), (191, 203, 221, 234), (380, 18, 410, 48), (193, 281, 223, 311), (228, 281, 258, 311), (203, 152, 234, 182), (88, 244, 119, 274), (426, 317, 456, 347), (299, 175, 329, 205), (120, 255, 150, 285), (5, 246, 35, 276), (354, 308, 384, 338), (375, 161, 405, 191), (234, 274, 264, 304), (65, 320, 96, 350), (304, 115, 334, 145), (239, 207, 269, 237), (113, 260, 143, 290), (444, 504, 474, 534), (184, 817, 214, 847), (405, 543, 435, 573), (343, 745, 373, 775), (448, 916, 478, 947), (251, 840, 281, 870), (375, 809, 405, 839), (350, 741, 380, 771), (441, 734, 471, 764), (136, 888, 166, 918), (78, 885, 108, 915), (119, 929, 149, 959), (9, 927, 39, 957), (410, 600, 441, 630), (426, 869, 456, 899), (317, 925, 347, 955), (426, 1320, 456, 1350), (446, 1226, 476, 1256), (152, 1364, 182, 1394), (462, 1065, 492, 1095), (94, 1385, 124, 1415), (412, 1023, 442, 1053), (145, 1295, 175, 1325), (274, 1283, 304, 1313), (412, 1120, 442, 1150), (69, 1031, 99, 1062), (349, 1371, 379, 1401), (419, 1376, 449, 1407), (416, 1281, 446, 1311), (163, 1364, 193, 1394), (253, 1200, 283, 1230), (373, 1001, 403, 1031), (412, 1039, 442, 1069), (455, 1819, 485, 1849), (410, 1902, 441, 1932), (837, 253, 867, 283), (485, 21, 515, 51), (824, 269, 855, 299), (552, 354, 582, 384), (835, 88, 865, 119), (787, 421, 817, 451), (524, 237, 554, 267), (632, 441, 662, 471), (644, 412, 674, 442), (600, 80, 630, 110), (738, 304, 768, 334), (534, 234, 564, 264), (801, 30, 832, 60), (501, 370, 531, 400), (741, 313, 771, 343), (561, 416, 591, 446), (492, 382, 522, 412), (674, 94, 704, 124), (826, 106, 856, 136), (669, 150, 699, 180), (892, 90, 922, 120), (736, 801, 766, 832), (610, 763, 640, 793), (747, 832, 777, 862), (531, 495, 561, 525), (533, 591, 563, 621), (548, 495, 579, 525), (522, 796, 552, 826), (577, 814, 607, 844), (504, 524, 534, 554), (504, 890, 534, 920), (520, 855, 550, 885), (483, 824, 513, 855), (637, 840, 667, 870), (740, 757, 770, 787), (759, 596, 789, 626), (770, 674, 800, 704), (492, 777, 522, 807), (506, 683, 536, 713), (492, 681, 522, 711), (556, 740, 586, 770), (593, 531, 623, 561), (846, 844, 876, 874), (587, 918, 617, 948), (566, 524, 596, 554), (754, 646, 784, 676), (527, 637, 557, 667), (763, 667, 793, 697), (892, 1053, 922, 1083), (697, 1260, 727, 1290), (655, 1247, 685, 1277), (881, 1100, 911, 1131), (899, 1269, 929, 1299), (501, 1272, 531, 1302), (501, 994, 531, 1024), (932, 1031, 962, 1062), (586, 1238, 616, 1269), (497, 1203, 527, 1233), (626, 1410, 656, 1440), (943, 1191, 973, 1221), (789, 1228, 819, 1258), (534, 1297, 564, 1327), (927, 971, 957, 1001), (943, 1074, 973, 1104), (941, 1231, 971, 1261), (706, 1415, 736, 1445), (853, 1790, 883, 1821), (830, 1810, 860, 1840), (941, 1500, 971, 1530), (564, 1874, 594, 1904), (501, 1594, 531, 1624), (591, 1757, 621, 1787), (775, 1741, 805, 1771), (904, 1658, 934, 1688), (616, 1629, 646, 1660), (679, 1766, 709, 1796), (520, 1642, 550, 1672), (777, 1900, 807, 1930), (704, 1647, 734, 1677), (616, 1606, 646, 1637), (805, 1859, 835, 1890), (702, 1697, 732, 1727), (559, 1757, 589, 1787), (773, 1661, 803, 1691), (644, 1476, 674, 1506), (506, 1479, 536, 1509), (543, 1697, 573, 1727), (515, 1674, 545, 1704), (605, 1490, 635, 1520), (807, 1817, 837, 1847), (754, 1868, 784, 1898), (603, 1741, 633, 1771), (490, 1902, 520, 1932), (492, 1658, 522, 1688), (803, 1638, 833, 1668), (653, 1488, 683, 1518), (860, 1829, 890, 1859), (1150, 35, 1180, 65), (1200, 396, 1230, 426), (1221, 333, 1251, 363), (1134, 310, 1164, 340), (1228, 364, 1258, 395), (1092, 180, 1122, 211), (1198, 354, 1228, 384), (1415, 228, 1445, 258), (1200, 290, 1230, 320), (1086, 301, 1116, 331), (1060, 280, 1090, 310), (1226, 53, 1256, 83), (1074, 840, 1104, 870), (1086, 819, 1116, 849), (1120, 858, 1150, 888), (1263, 580, 1293, 610), (1106, 782, 1136, 812), (1058, 633, 1088, 663), (1042, 925, 1072, 955), (1240, 594, 1270, 625), (1129, 778, 1159, 809), (1154, 582, 1184, 612), (1178, 934, 1208, 964), (1316, 1077, 1346, 1108), (1062, 1139, 1092, 1169), (975, 1141, 1005, 1171), (985, 1246, 1016, 1276), (1024, 1001, 1054, 1031), (1069, 1212, 1099, 1242), (1097, 1069, 1127, 1099), (970, 1017, 1000, 1047), (1152, 1067, 1182, 1097), (1362, 1410, 1392, 1440), (1003, 1217, 1033, 1247), (1088, 1053, 1118, 1083), (1046, 1086, 1076, 1116), (1037, 991, 1067, 1021), (1323, 1330, 1353, 1361), (1143, 1083, 1173, 1113), (1194, 1378, 1224, 1408), (1169, 964, 1200, 994), (991, 1185, 1021, 1215), (1100, 1364, 1131, 1394), (975, 1350, 1005, 1380), (1054, 1069, 1085, 1099), (1024, 1069, 1054, 1099), (1279, 1003, 1309, 1033), (1221, 1658, 1251, 1688), (1138, 1667, 1168, 1697), (966, 1867, 996, 1897), (1178, 1771, 1208, 1801), (1261, 1668, 1292, 1698), (1277, 1545, 1307, 1575), (1185, 1486, 1215, 1516), (1318, 1500, 1348, 1530), (1384, 1743, 1414, 1773), (1024, 1647, 1054, 1677), (1008, 1675, 1039, 1706), (982, 1631, 1012, 1661), (1100, 1884, 1131, 1914), (1118, 1893, 1148, 1923), (1419, 1626, 1449, 1656), (1031, 1775, 1062, 1805), (959, 1665, 989, 1695), (1076, 1898, 1106, 1928), (1085, 1902, 1115, 1932), (1520, 345, 1550, 375), (1614, 338, 1644, 368), (1504, 340, 1534, 370), (1644, 30, 1674, 60), (1564, 407, 1594, 437), (1438, 101, 1468, 131), (1476, 262, 1506, 292), (1806, 1189, 1836, 1219), (1605, 1258, 1635, 1288), (1606, 1295, 1637, 1325), (1637, 1891, 1667, 1921), (1486, 1621, 1516, 1651), (1635, 1651, 1665, 1681), (1580, 1815, 1610, 1845), (1637, 1875, 1667, 1905), (313, 106, 345, 134), (306, 145, 334, 177), (287, 842, 318, 870), (464, 975, 492, 1007), (778, 212, 807, 244), (487, 1461, 518, 1490), (479, 1660, 508, 1691), (1168, 218, 1196, 249), (1143, 410, 1175, 439), (1104, 317, 1136, 345), (1067, 285, 1099, 313), (1047, 1019, 1079, 1047), (1049, 1852, 1081, 1881), (1688, 1251, 1720, 1279), (1859, 1104, 1891, 1132), (402, 180, 432, 209), (453, 994, 481, 1024), (418, 1168, 448, 1196), (391, 1093, 421, 1122), (649, 12, 679, 41), (724, 800, 754, 828), (506, 741, 534, 771), (639, 1062, 669, 1090), (487, 1534, 517, 1562), (832, 1583, 860, 1614), (725, 1718, 754, 1748), (506, 1442, 534, 1472), (826, 1819, 856, 1847), (1044, 1010, 1074, 1039), (1039, 1000, 1069, 1028), (1093, 1062, 1123, 1090), (959, 1205, 985, 1235)
inflammatory: (465, 1898, 495, 1930)
lymphocyte: (166, 196, 196, 228), (281, 209, 311, 241), (306, 126, 338, 156), (39, 184, 71, 214), (41, 90, 73, 120), (188, 1539, 218, 1571), (685, 885, 715, 916), (579, 1806, 609, 1838), (479, 1668, 511, 1698), (736, 1702, 766, 1734), (709, 1686, 740, 1718), (1132, 295, 1164, 326), (1348, 1882, 1380, 1913), (1063, 1852, 1093, 1884), (817, 262, 847, 292), (870, 1844, 901, 1874), (1180, 373, 1210, 403), (1012, 775, 1042, 805), (1376, 1049, 1407, 1079), (1118, 1792, 1148, 1822), (1380, 1656, 1410, 1686)
